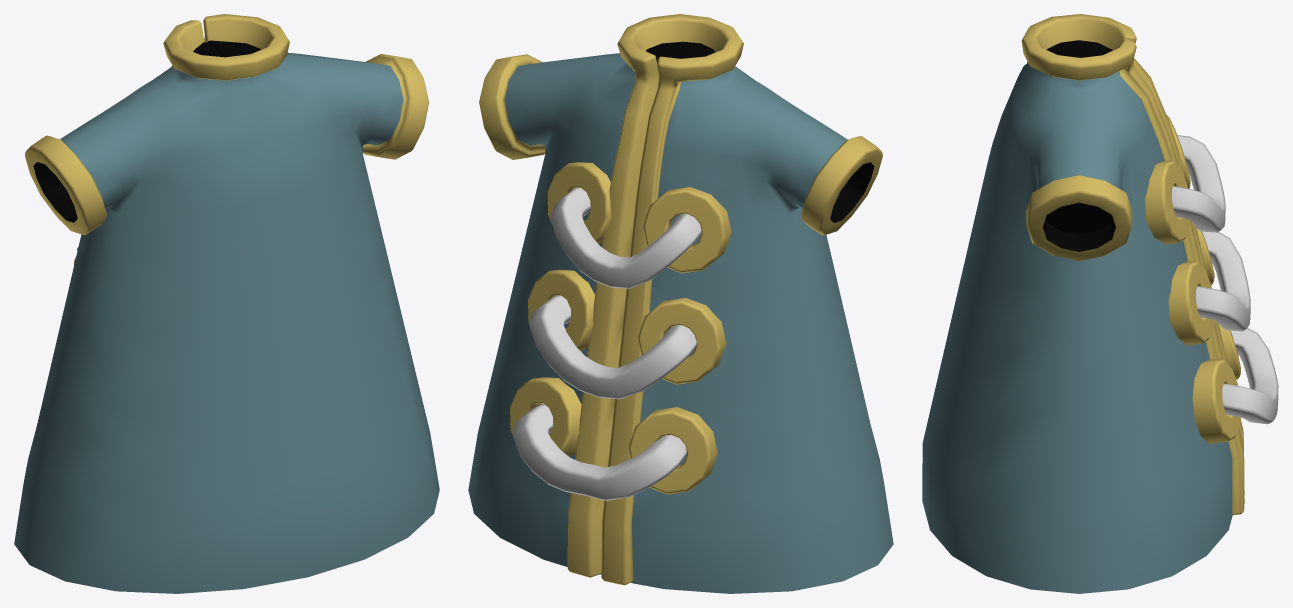
File: Admirals_Chest_Mesh.fbx
The picture shows the model from 3 angles, left to right: view 1: azimuth 30°, elevation 25°; view 2: azimuth 150°, elevation 25°; view 3: azimuth 270°, elevation 25°; orthographic projection. The views are drawn at different scales.
Parts seen in each view (by area): view 1: Admirals_Chest_mesh; view 2: Admirals_Chest_mesh; view 3: Admirals_Chest_mesh.
Boxes of the visible parts, x1=… form: Admirals_Chest_mesh: x1=14, y1=14, x2=439, y2=593; Admirals_Chest_mesh: x1=468, y1=14, x2=893, y2=593; Admirals_Chest_mesh: x1=922, y1=14, x2=1278, y2=593.
Bounding box in the file's own units: 27.54 × 32.09 × 22.25.
